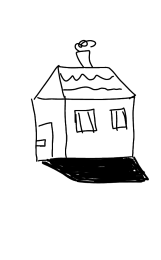closed_window: (70, 104, 100, 134), (108, 105, 130, 133)
door: (31, 117, 64, 160)
roof: (27, 64, 142, 103)
shadow: (36, 154, 151, 188)
smoking_chimney: (69, 32, 103, 73)
wall: (62, 96, 144, 161)
